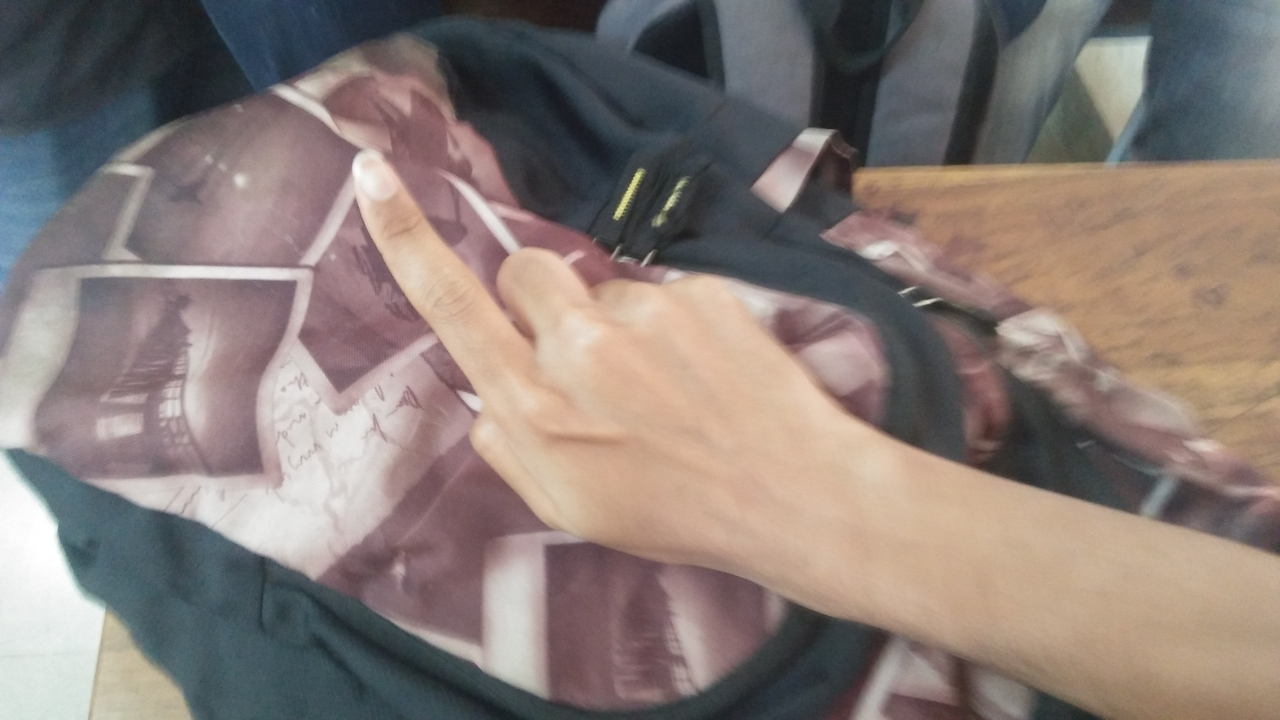fingertip: (338, 148, 406, 216)
